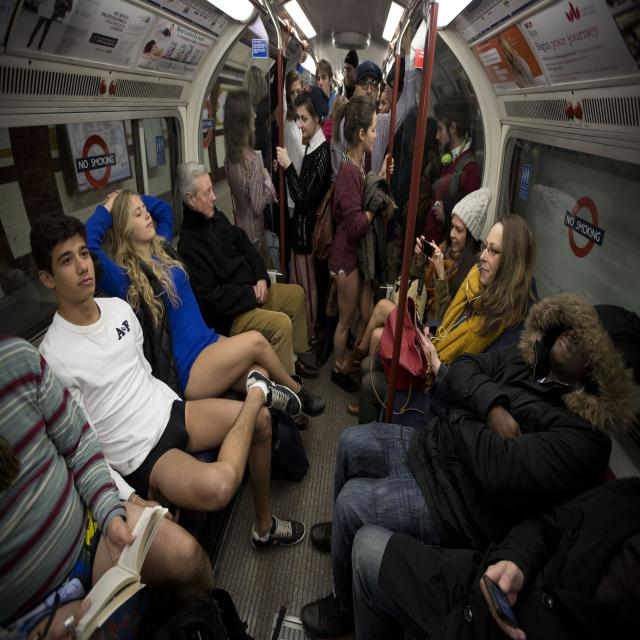body: (300, 303, 638, 637), (29, 212, 307, 551), (24, 234, 309, 556), (81, 190, 327, 417), (346, 473, 640, 640), (354, 213, 542, 424), (336, 188, 494, 425), (175, 161, 319, 381), (325, 94, 397, 386), (276, 86, 333, 357), (330, 11, 416, 185), (416, 93, 479, 267), (384, 37, 424, 285), (223, 88, 273, 246), (242, 17, 291, 178), (282, 69, 310, 214), (295, 38, 336, 122), (141, 21, 208, 71), (495, 32, 538, 91), (333, 49, 360, 102), (378, 86, 389, 110)
